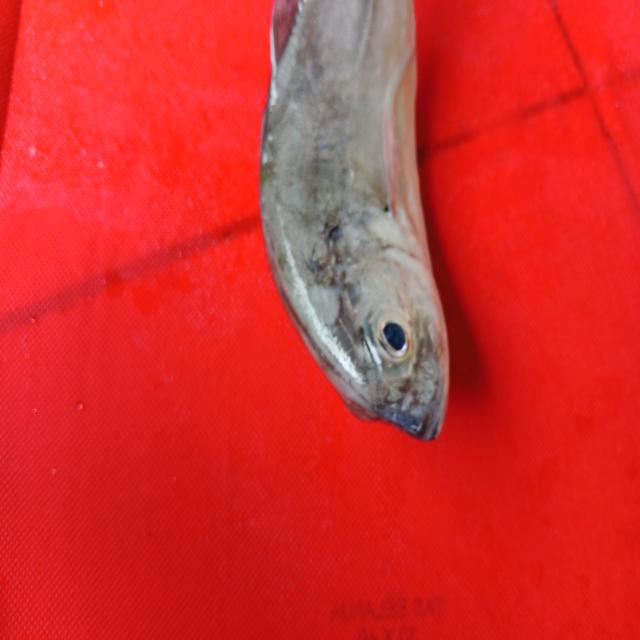ikan: (258, 0, 451, 442)
